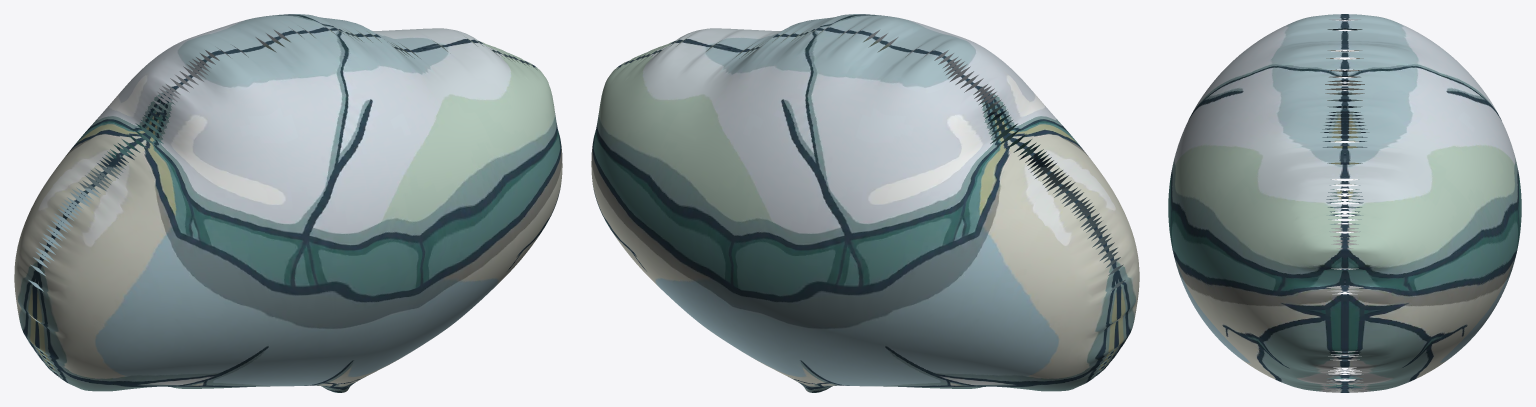
Rendered from slate_ledge.glb.
3 views of the same model, side by side, from view 1: azimuth 30°, elevation 25°; view 2: azimuth 150°, elevation 25°; view 3: azimuth 270°, elevation 25° (orthographic). The views are drawn at different scales.
Visible parts, largest first — view 1: slate_ledge; view 2: slate_ledge; view 3: slate_ledge.
Part boxes in pixels (left/top/right/bottom): slate_ledge: left=14, top=14, right=562, bottom=392; slate_ledge: left=591, top=14, right=1139, bottom=392; slate_ledge: left=1168, top=14, right=1521, bottom=392.
Size of the model in its own units: 0.989 by 0.6261 by 0.6325.
1 material, 1 textured.
